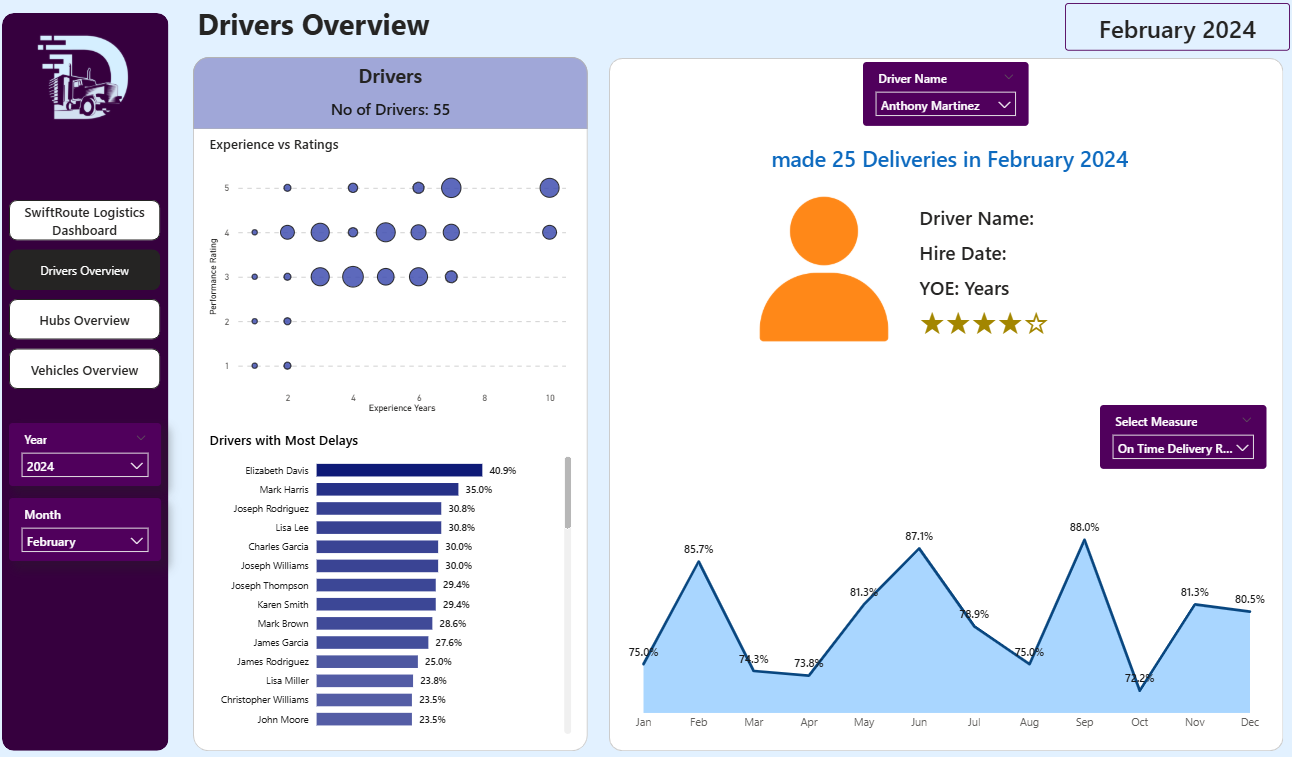

What the dashboard file says about the page in this screenshot:
{"tool":"powerbi","page":{"name":"Drivers Overview","canvas":[1450,850],"ordinal":1},"visuals":[{"type":"shape","box":[7.7,15.4,185.1,819.8],"z":0},{"type":"textbox","box":[220.4,0,488.1,56.2],"z":1000},{"type":"slicer","fields":{"Values":["Date Table.Year"]},"box":[15.4,470.6,168.6,70],"z":2000},{"type":"slicer","fields":{"Values":["Date Table.Month"]},"box":[15.4,554.3,168.6,70],"z":3000},{"type":"shape","box":[220.4,65,438.5,770.2],"z":4000},{"type":"shape","box":[220.4,63.9,438.5,80.4],"z":5000},{"type":"textbox","box":[220.4,65,438.5,40.8],"z":6000},{"type":"cardVisual","fields":{"Data":["Drivers.No of Drivers"]},"box":[233.6,104.7,412.1,30.9],"z":7000},{"type":"scatterChart","title":"Experience vs Ratings","fields":{"X":["Drivers.Experience Years"],"Y":["Drivers.Performance Rating"],"Size":["Sum(Drivers.Experience Years)1"]},"box":[233.6,150.9,412.1,314],"z":8000},{"type":"barChart","title":"Drivers with Most Delays","fields":{"Category":["Drivers.DriverName"],"Y":["Orders.Delayed Delivery Rate"]},"box":[233.6,480.4,412.1,341.6],"z":9000},{"type":"image","box":[33.1,29.7,131.1,122.3],"z":10000},{"type":"cardVisual","fields":{"Data":["Orders.Year Month Title"]},"box":[1188.9,4.4,250,53.3],"z":11000},{"type":"shape","box":[682,65,749.2,770.2],"z":12000},{"type":"slicer","fields":{"Values":["Orders.Driver Name"]},"box":[964.1,70.5,184,70.5],"z":13000},{"type":"cardVisual","fields":{"Data":["Drivers.Drivers Title"]},"box":[708.5,150.9,704.1,50.7],"z":14000},{"type":"cardVisual","fields":{"Data":["Drivers.Driver Name Title","Drivers.Hire Date Title","Drivers.YOE","Drivers.Star Rating"]},"box":[1010.4,216,362.5,168.6],"z":15000},{"type":"image","box":[830.8,216,179.6,168.6],"z":16000},{"type":"areaChart","fields":{"Y":["Orders.On Time Delivery Rate"],"Category":["Date Table.Month Abr"]},"box":[690.8,565.2,732.7,256.7],"z":17000},{"type":"slicer","fields":{"Values":["Select Measure.Select Measure"]},"box":[1227.4,450.6,185.1,70.5],"z":18000},{"type":"pageNavigator","box":[15.4,223.7,168.6,212.7],"z":19000}]}

Visuals, with their boxes in screenshot pixels (x1, y1, x2, y2), scaled from the page's 1450x850 canvas onto the 1292x757 screenshot:
shape: 7:14:172:744
textbox: 196:0:631:50
slicer - Date Table.Year: 14:419:164:481
slicer - Date Table.Month: 14:494:164:556
shape: 196:58:587:744
shape: 196:57:587:129
textbox: 196:58:587:94
cardVisual - Drivers.No of Drivers: 208:93:575:121
"Experience vs Ratings" scatterChart: 208:134:575:414
"Drivers with Most Delays" barChart: 208:428:575:732
image: 29:26:146:135
cardVisual - Orders.Year Month Title: 1059:4:1282:51
shape: 608:58:1275:744
slicer - Orders.Driver Name: 859:63:1023:126
cardVisual - Drivers.Drivers Title: 631:134:1259:180
cardVisual - Drivers.Driver Name Title x Drivers.Hire Date Title: 900:192:1223:343
image: 740:192:900:343
areaChart - Orders.On Time Delivery Rate x Date Table.Month Abr: 616:503:1268:732
slicer - Select Measure.Select Measure: 1094:401:1259:464
pageNavigator: 14:199:164:389
